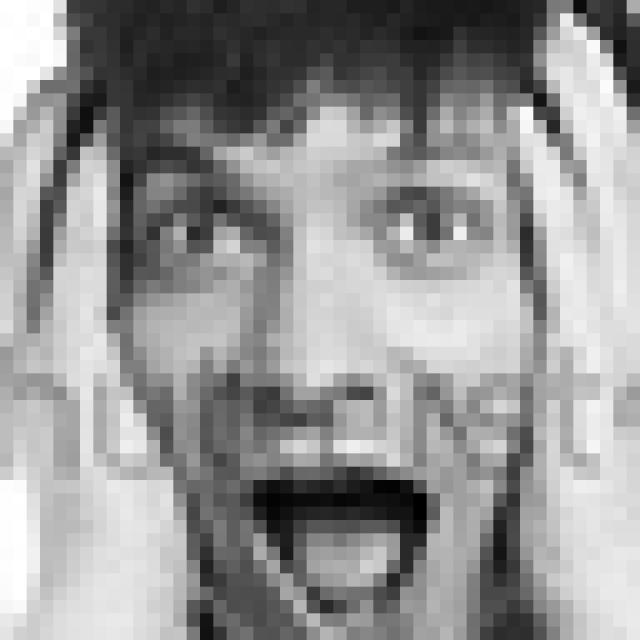fear: (127, 137, 502, 640)
